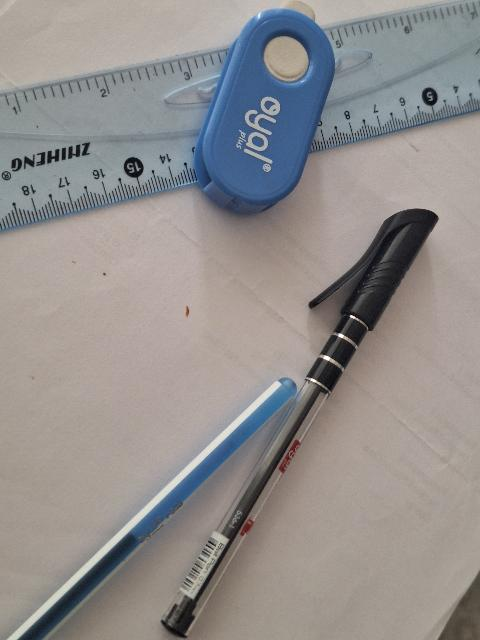writing_tool: (162, 207, 443, 640), (6, 377, 298, 634)
